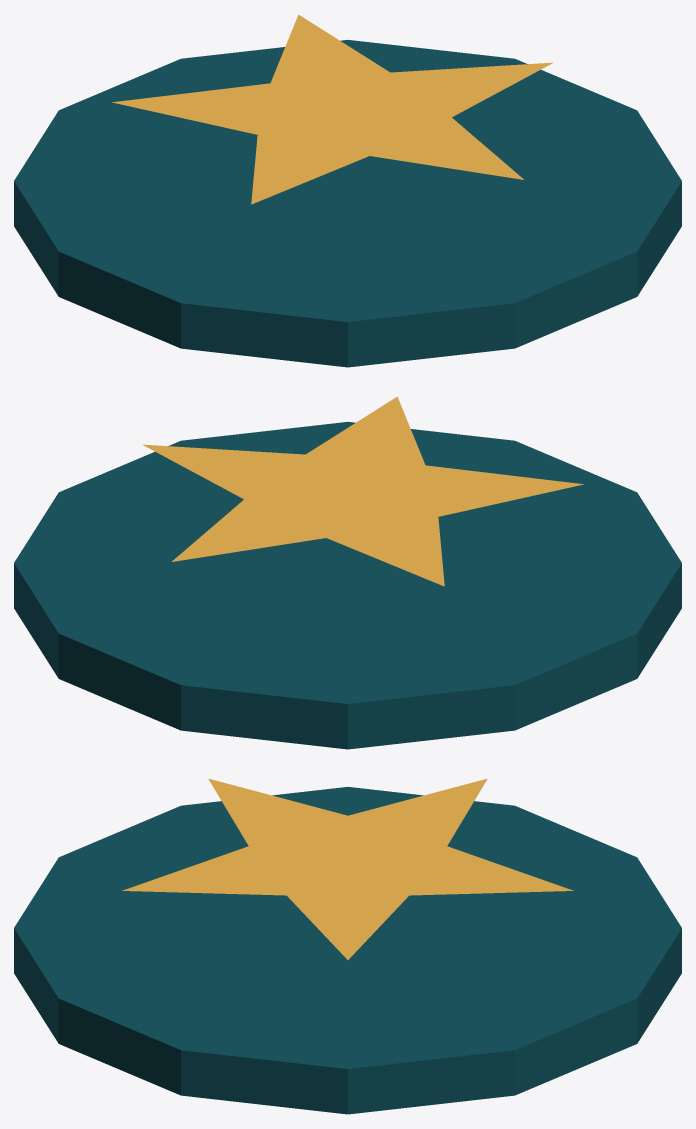
File: Icon_Reputation.fbx
The picture shows the model from 3 angles, top to bottom: view 1: azimuth 30°, elevation 25°; view 2: azimuth 150°, elevation 25°; view 3: azimuth 270°, elevation 25°; orthographic projection.
Visible parts, largest first — view 1: Icon_Reputation_Static; view 2: Icon_Reputation_Static; view 3: Icon_Reputation_Static.
Boxes of the visible parts, bbox=[...] form: Icon_Reputation_Static: bbox=[14, 14, 681, 367]; Icon_Reputation_Static: bbox=[14, 396, 681, 749]; Icon_Reputation_Static: bbox=[14, 778, 681, 1114].
Size of the model in its own units: 1.6 by 0.3 by 1.6.
1 material, 1 textured.
